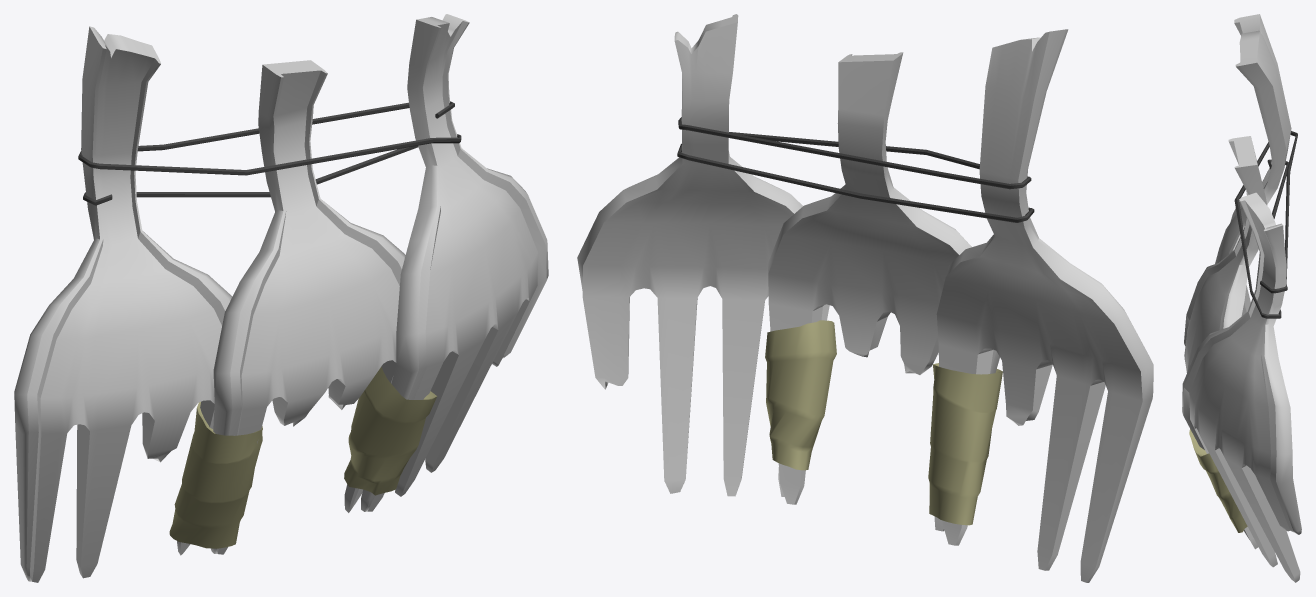
File: ForkBarrierVar2.fbx
3 views of the same model, side by side, from view 1: azimuth 30°, elevation 25°; view 2: azimuth 150°, elevation 25°; view 3: azimuth 270°, elevation 25° (orthographic). The views are drawn at different scales.
Parts seen in each view (by area): view 1: pasted__pasted__pasted__pasted__pasted__pasted__pCube2, pasted__pasted__pasted__pasted__pasted__pCube1, pasted__pasted__pasted__pasted__pasted__pasted__pCube1, pasted__pCylinder1, pasted__pasted__pCylinder1, pasted__pCylinder2; view 2: pasted__pasted__pasted__pasted__pasted__pasted__pCube2, pasted__pasted__pasted__pasted__pasted__pasted__pCube1, pasted__pasted__pasted__pasted__pasted__pCube1, pasted__pCylinder1, pasted__pasted__pCylinder1, pasted__pCylinder2; view 3: pasted__pasted__pasted__pasted__pasted__pasted__pCube1, pasted__pasted__pasted__pasted__pasted__pCube1, pasted__pasted__pasted__pasted__pasted__pasted__pCube2, pasted__pCylinder2, pasted__pasted__pCylinder1.
Part boxes in pixels (x1=…): pasted__pasted__pasted__pasted__pasted__pasted__pCube2: x1=14, y1=26, x2=232, y2=582; pasted__pasted__pasted__pasted__pasted__pCube1: x1=210, y1=60, x2=405, y2=554; pasted__pasted__pasted__pasted__pasted__pasted__pCube1: x1=361, y1=14, x2=548, y2=511; pasted__pCylinder1: x1=169, y1=402, x2=262, y2=548; pasted__pasted__pCylinder1: x1=344, y1=366, x2=437, y2=495; pasted__pCylinder2: x1=78, y1=101, x2=461, y2=205; pasted__pasted__pasted__pasted__pasted__pasted__pCube2: x1=936, y1=29, x2=1153, y2=582; pasted__pasted__pasted__pasted__pasted__pasted__pCube1: x1=577, y1=14, x2=829, y2=496; pasted__pasted__pasted__pasted__pasted__pCube1: x1=767, y1=52, x2=999, y2=531; pasted__pCylinder1: x1=928, y1=363, x2=1002, y2=525; pasted__pasted__pCylinder1: x1=765, y1=320, x2=836, y2=470; pasted__pCylinder2: x1=677, y1=117, x2=1034, y2=222; pasted__pasted__pasted__pasted__pasted__pasted__pCube1: x1=1182, y1=192, x2=1301, y2=582; pasted__pasted__pasted__pasted__pasted__pCube1: x1=1184, y1=136, x2=1267, y2=372; pasted__pasted__pasted__pasted__pasted__pasted__pCube2: x1=1215, y1=14, x2=1291, y2=315; pasted__pCylinder2: x1=1234, y1=131, x2=1297, y2=318; pasted__pasted__pCylinder1: x1=1189, y1=429, x2=1247, y2=532.
Size of the model in its own units: 4.21 by 3.95 by 0.9965.
